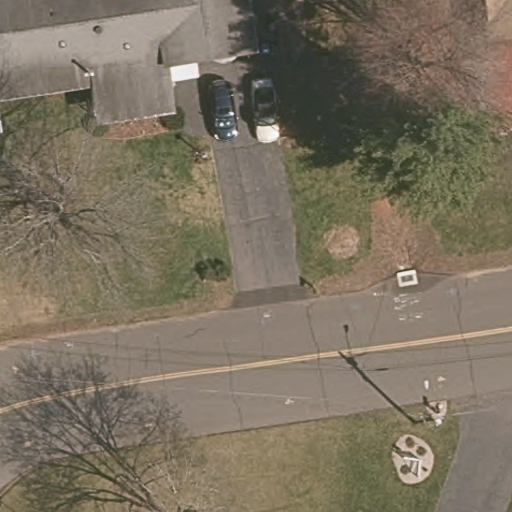DT: (413, 393, 456, 427)
